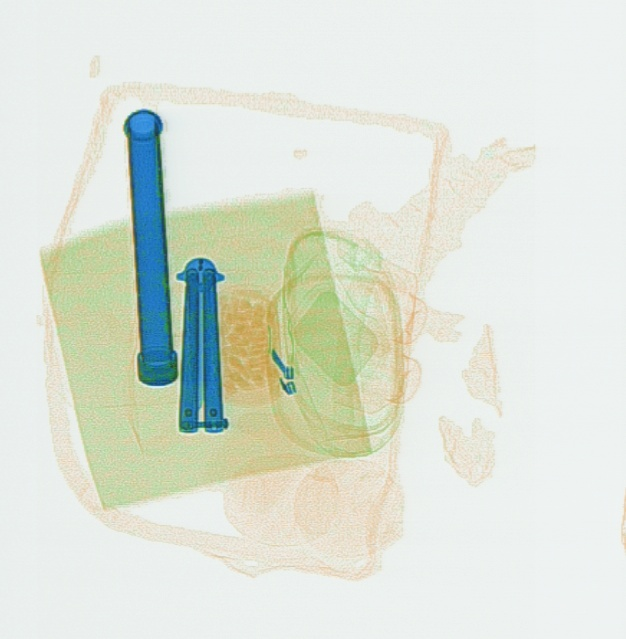knife: (167, 252, 233, 433)
